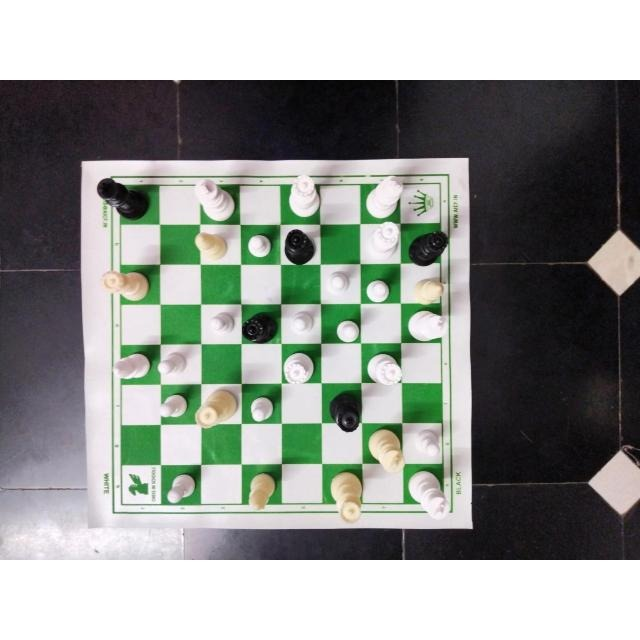black-king: (96, 176, 148, 220)
black-queen: (409, 231, 446, 267), (282, 226, 315, 265), (328, 393, 360, 432), (241, 311, 277, 344)
white-bishop: (247, 472, 276, 510), (112, 351, 150, 379), (193, 231, 229, 260), (412, 277, 444, 305)
white-king: (405, 470, 452, 519), (367, 426, 405, 473), (194, 177, 234, 221), (366, 174, 404, 218), (406, 309, 450, 343)
white-pawn: (166, 471, 198, 506), (157, 350, 191, 377), (411, 427, 441, 457), (363, 276, 395, 303), (158, 392, 188, 420), (243, 233, 275, 258), (324, 268, 352, 296), (247, 395, 275, 423), (207, 311, 236, 337), (287, 311, 314, 335), (335, 320, 360, 342)
white-queen: (327, 469, 366, 522), (98, 269, 151, 303), (194, 389, 238, 429), (288, 174, 322, 218), (366, 221, 402, 261), (365, 353, 403, 387), (282, 350, 317, 384)
